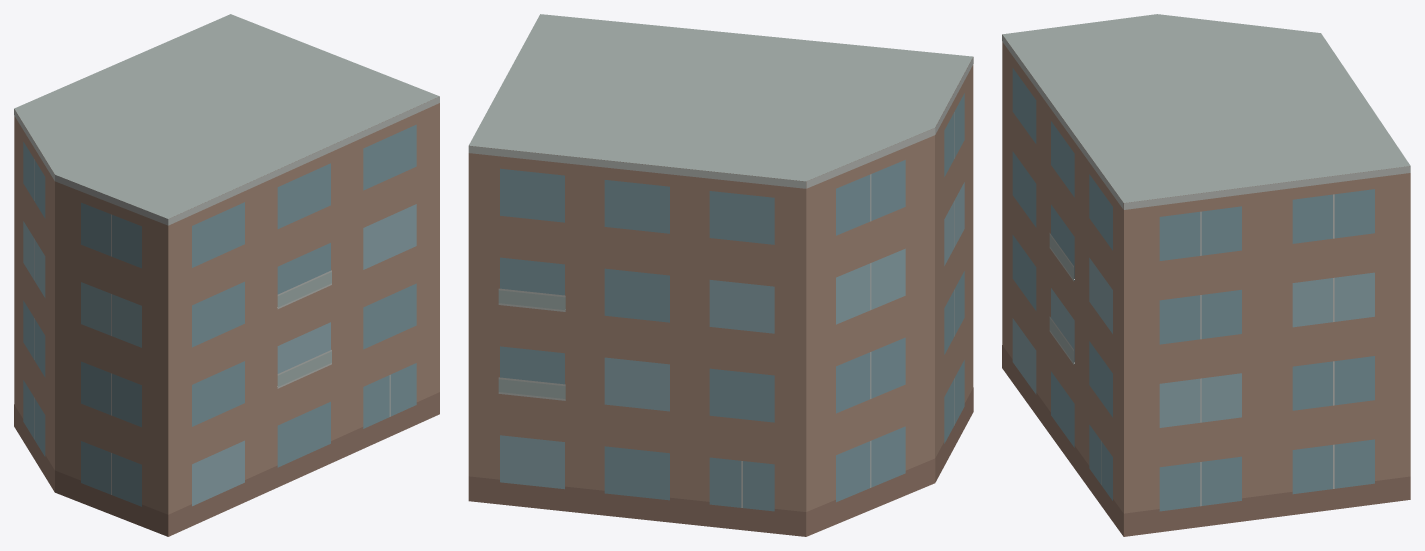
Rendered from survey-upis-32663557.glb.
3 views of the same model, side by side, from view 1: azimuth 30°, elevation 25°; view 2: azimuth 150°, elevation 25°; view 3: azimuth 270°, elevation 25° (orthographic). The views are drawn at different scales.
Parts seen in each view (by area): view 1: survey-upis-32663557.tmp; view 2: survey-upis-32663557.tmp; view 3: survey-upis-32663557.tmp.
Boxes of the visible parts, x1,y1,x2,y2 form: survey-upis-32663557.tmp: [14, 14, 439, 536]; survey-upis-32663557.tmp: [468, 14, 973, 536]; survey-upis-32663557.tmp: [1002, 14, 1410, 536].
Bounding box in the file's own units: 14.22 × 11.7 × 12.99.
